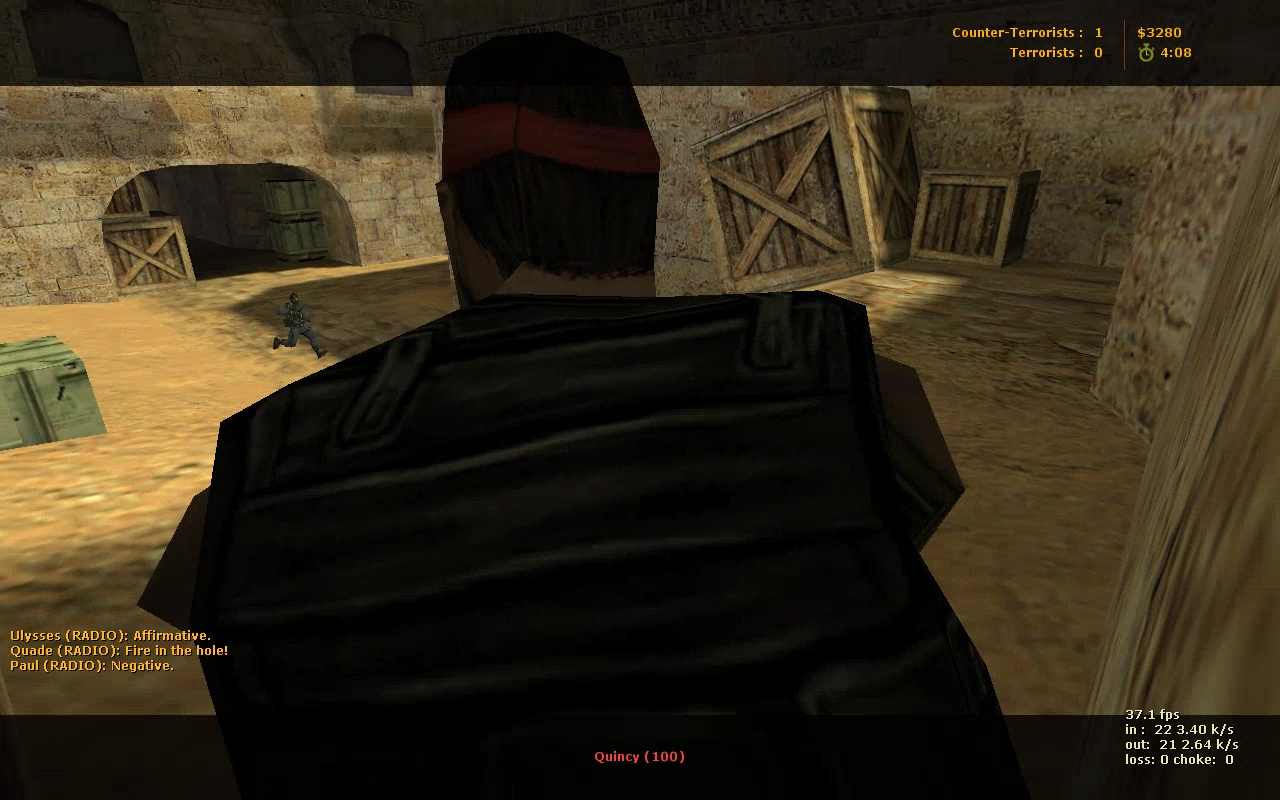ct: (273, 291, 329, 362)
